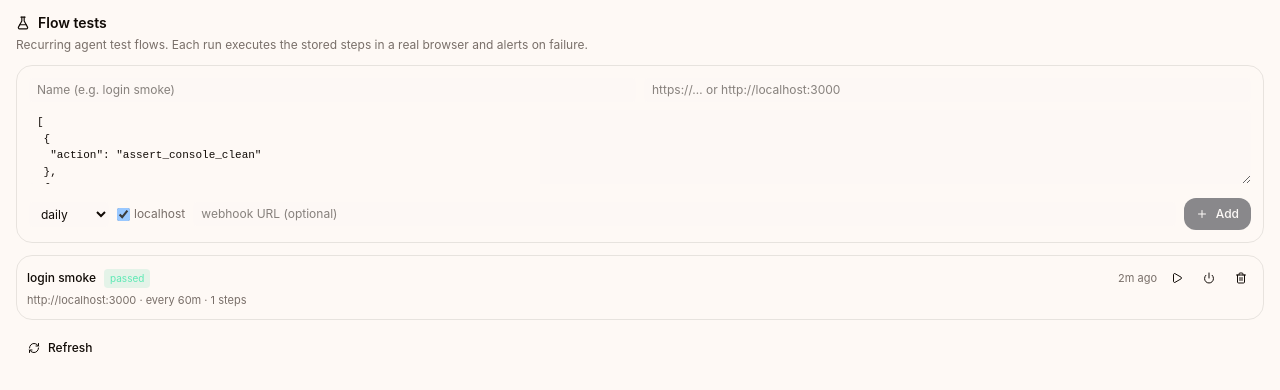
Test case: FlowMonitorsPanel › rejects invalid steps JSON
Replace the text in the text box with "oops not json" at (640, 147), box [29,110,1251,184]
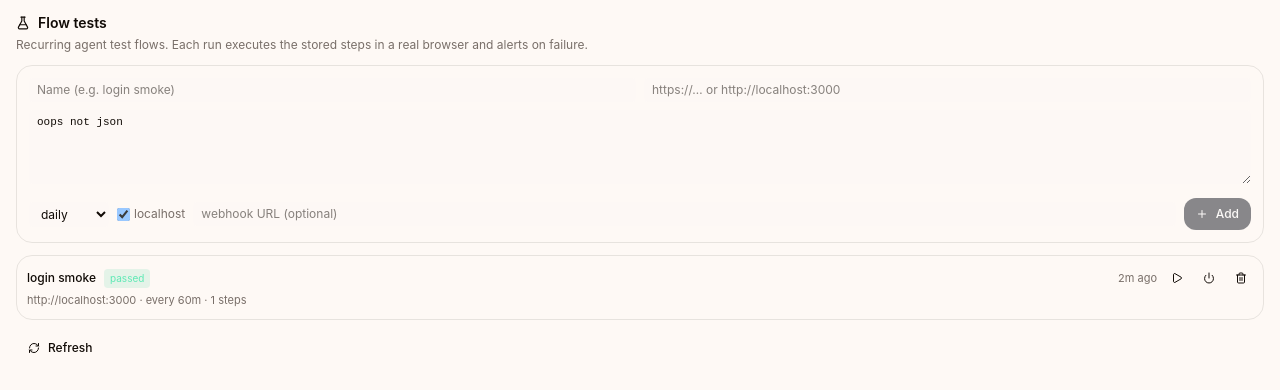
Type "bad" into the field with placeholder "Name (e.g. login smoke)" at (332, 90), box [29,78,636,102]
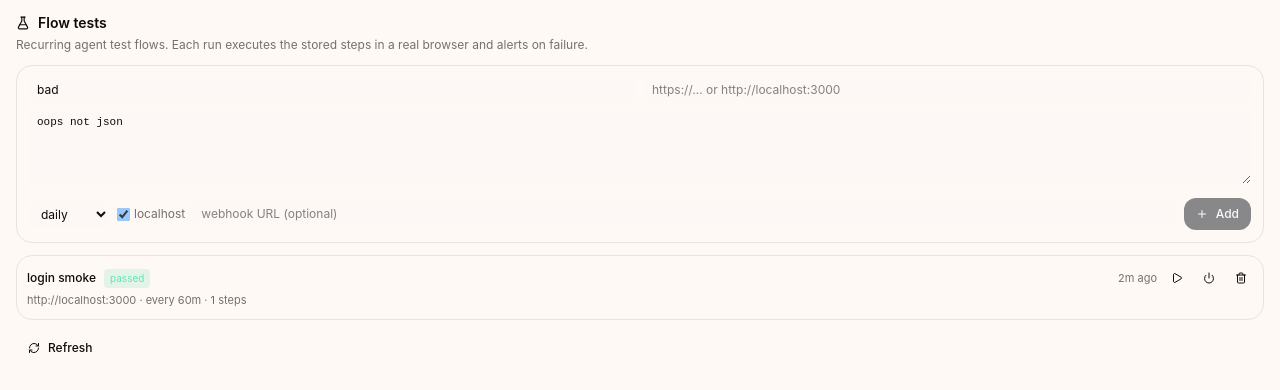
Type "http://x" into the field with placeholder "https://… or http://localhost:3000" at (948, 90), box [644,78,1251,102]
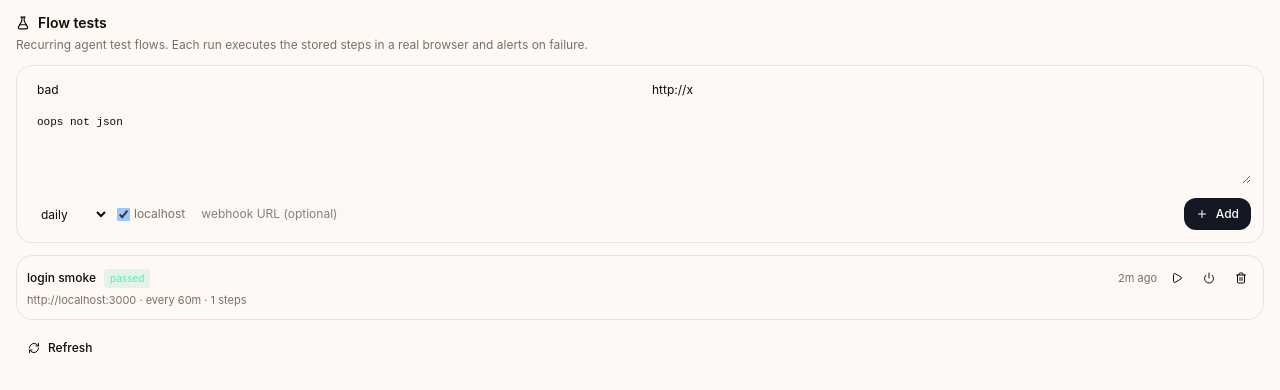
Click the button "Add" at (1217, 214), box [1184,198,1251,230]
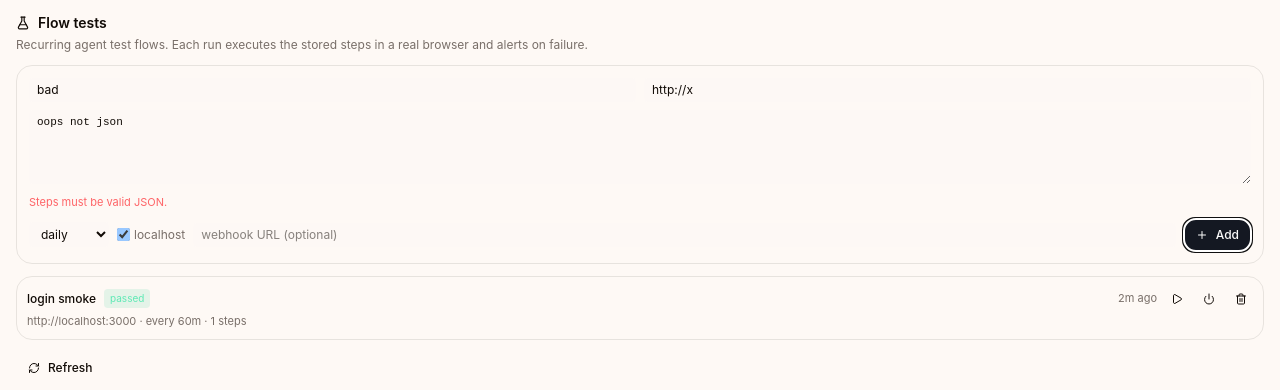
expect the text "Steps must be valid JSON." is shown: met, box [29,195,167,209]
